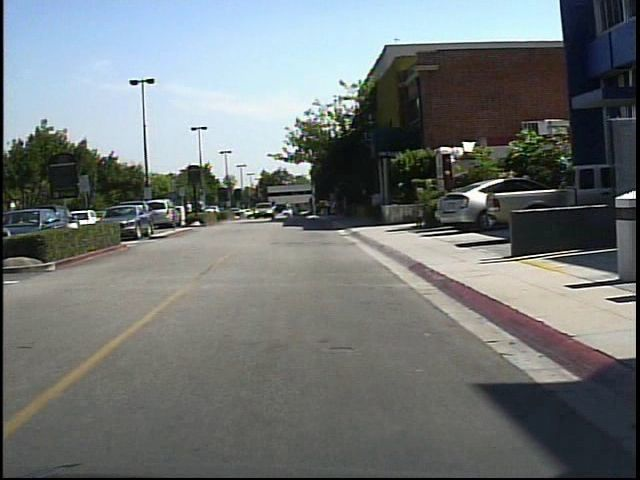person: (182, 193, 198, 224), (282, 196, 297, 223)
